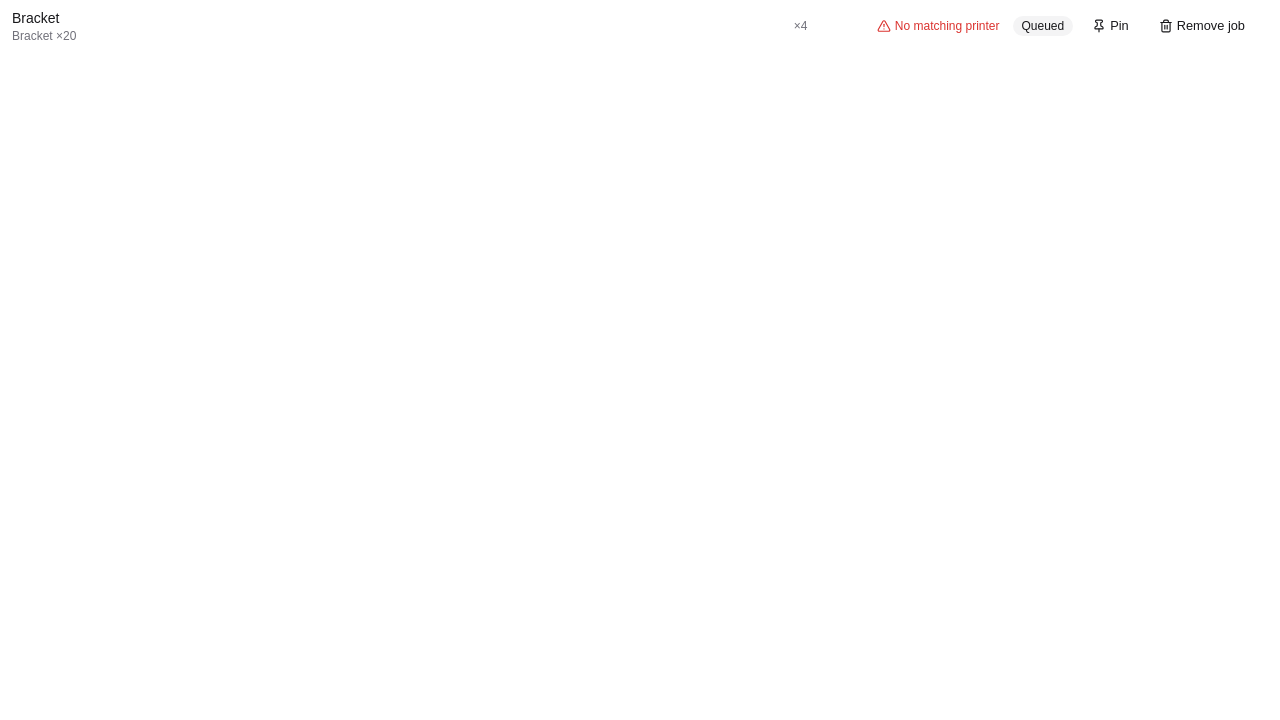
Test: QueueJobRow › opens diagnosis from the matching field (blocked=true)
Click the button "No matching printer". click: x=935, y=26
box: [870,17,1000,35]
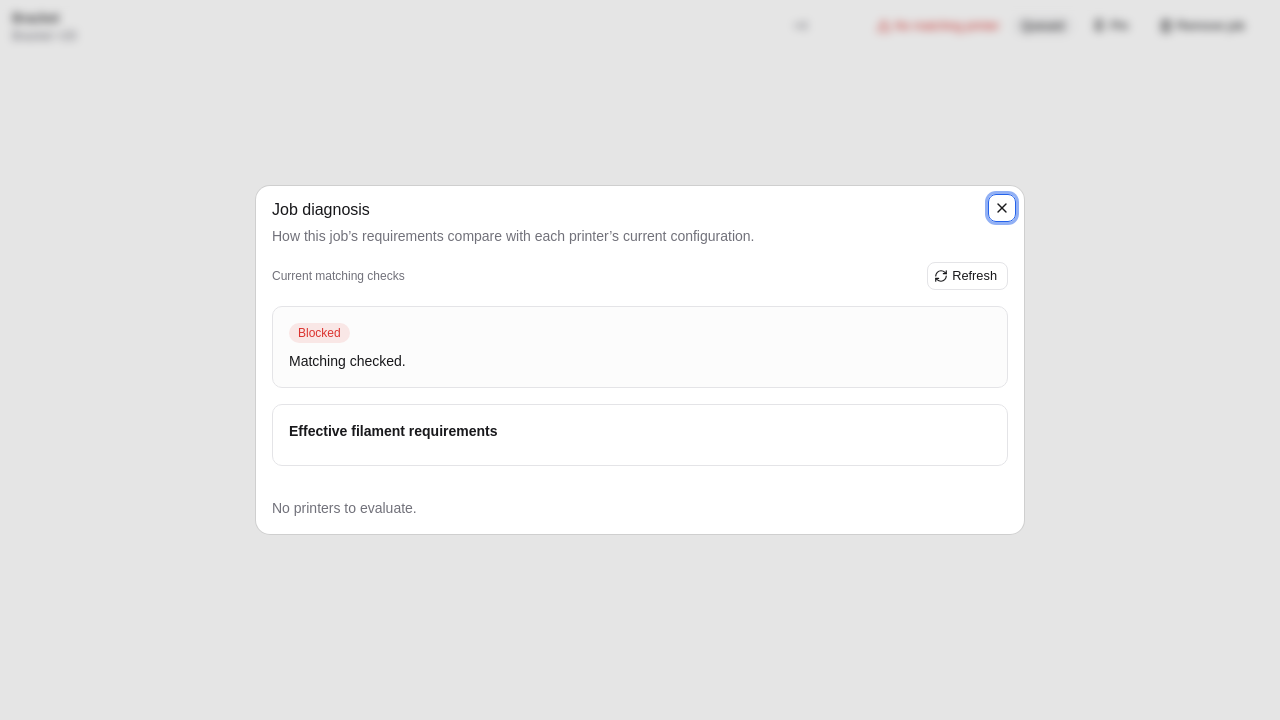
expect the text "Matching checked." is shown: met, box [289,353,406,369]
expect the dialog "Job diagnosis" is shown: met, box [256,186,1024,534]
